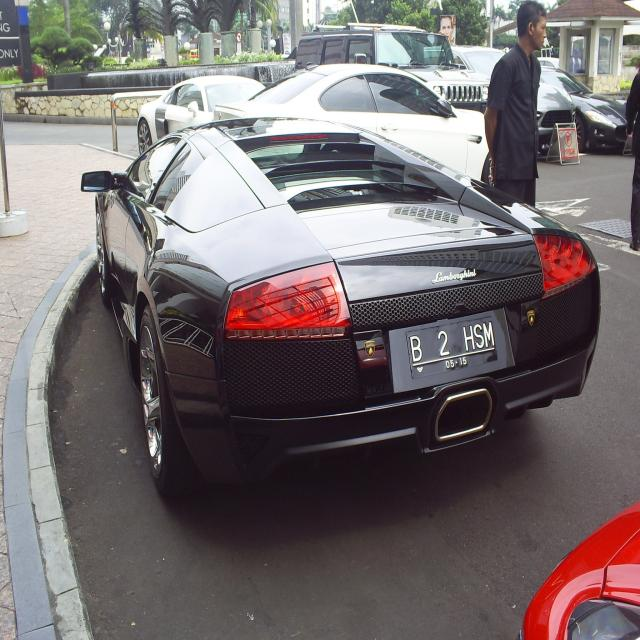plate: (407, 322, 500, 372)
